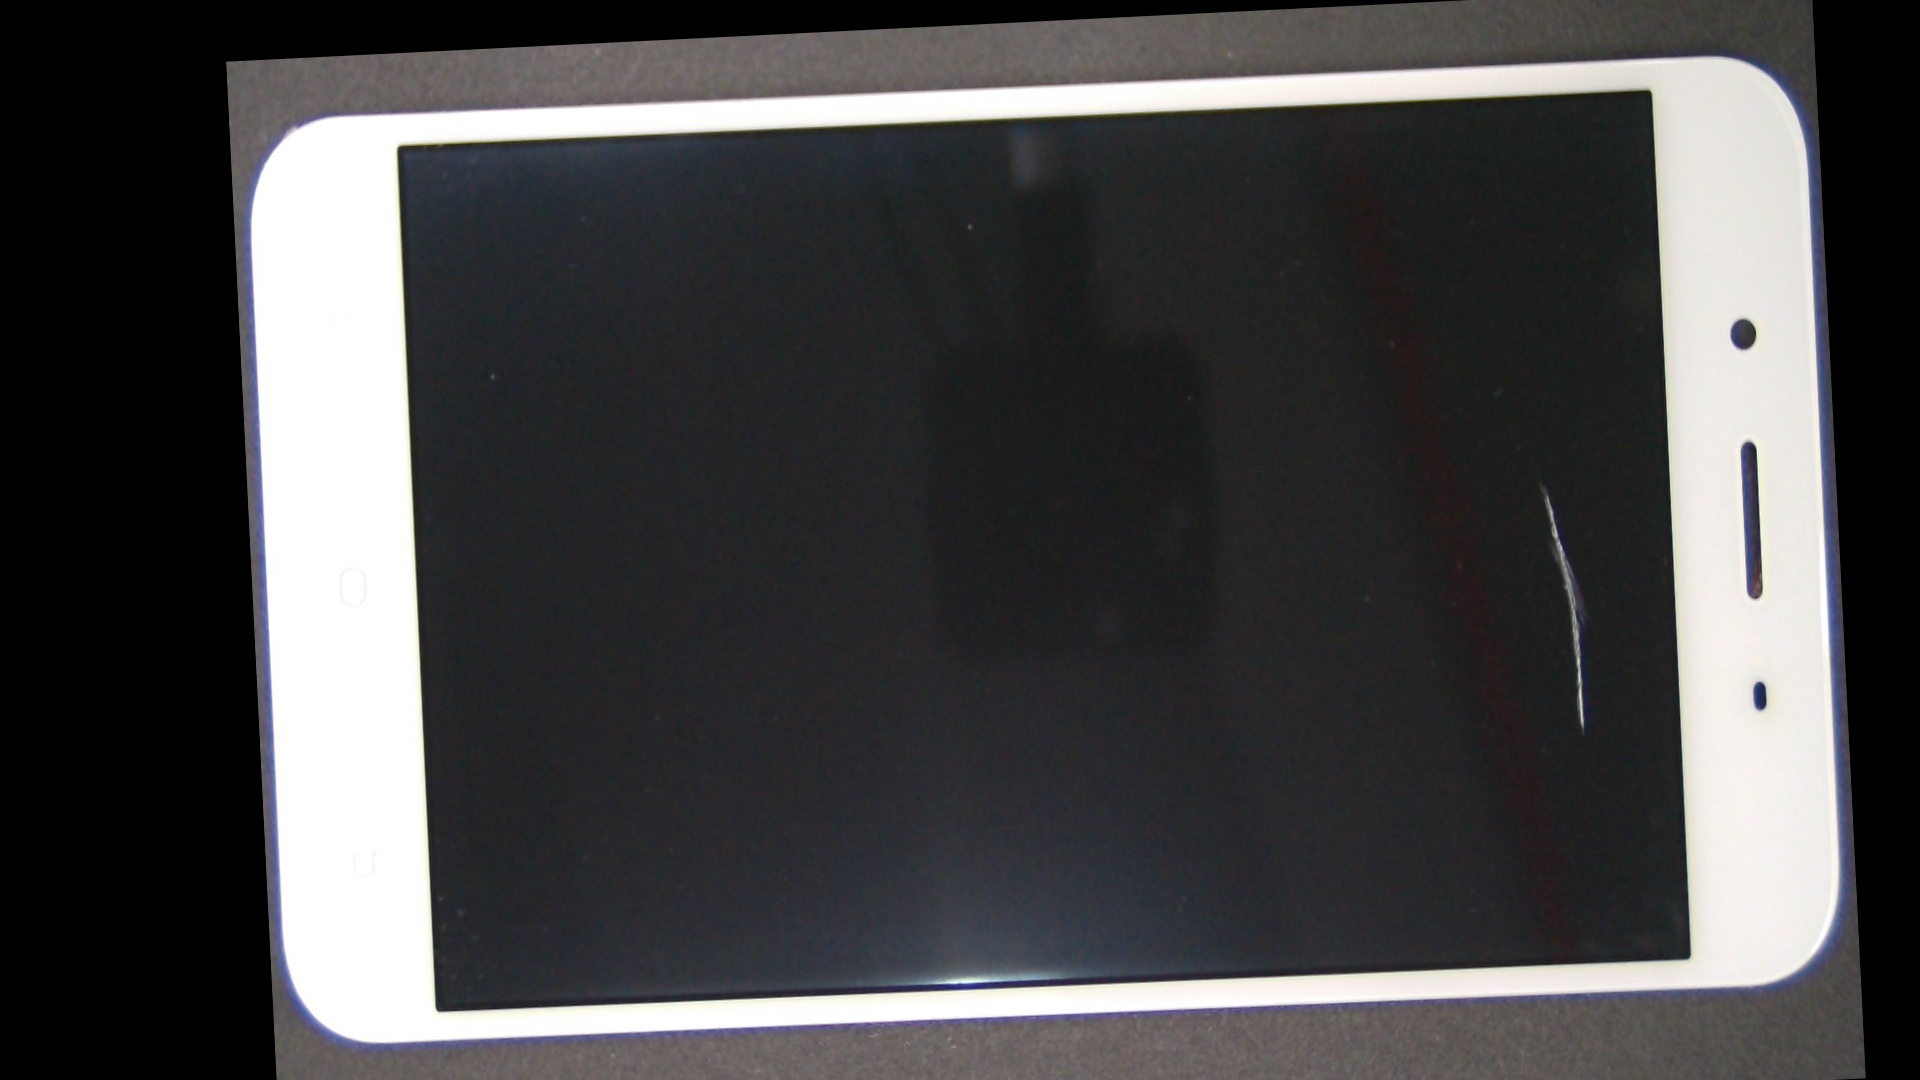oil: (884, 225, 1847, 762)
